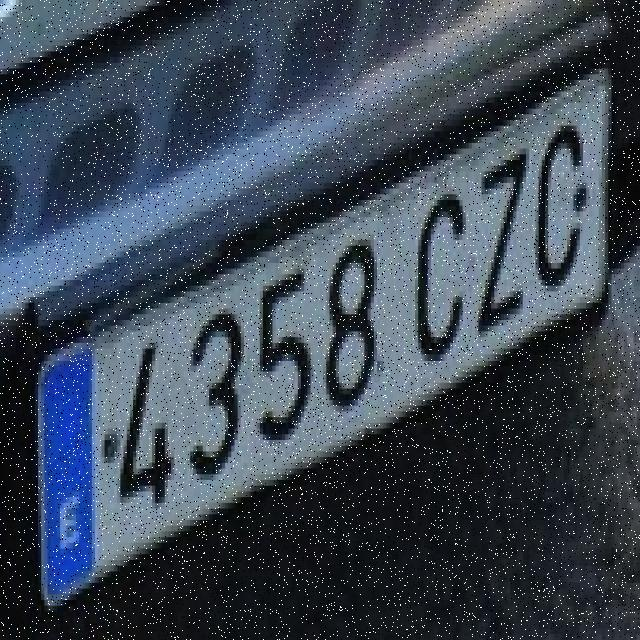licenseplate: (21, 46, 622, 634)
